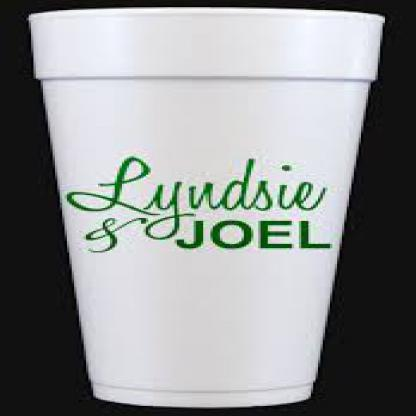paper: (24, 6, 382, 407)
